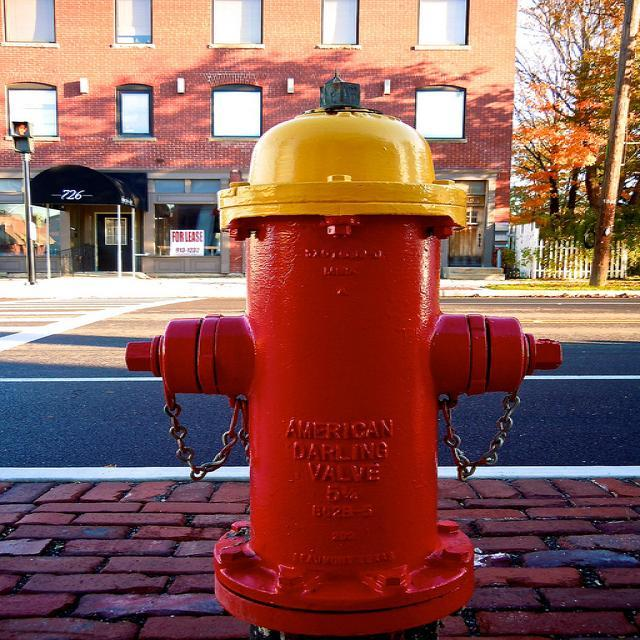fire_hydrant: (124, 82, 564, 639)
